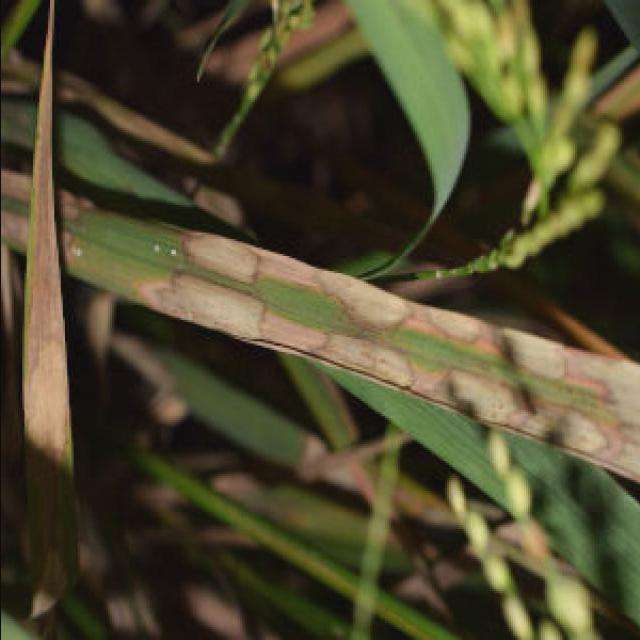Bacterial_Leaf_Blight: (140, 220, 638, 488), (15, 5, 74, 594), (0, 164, 86, 270)
